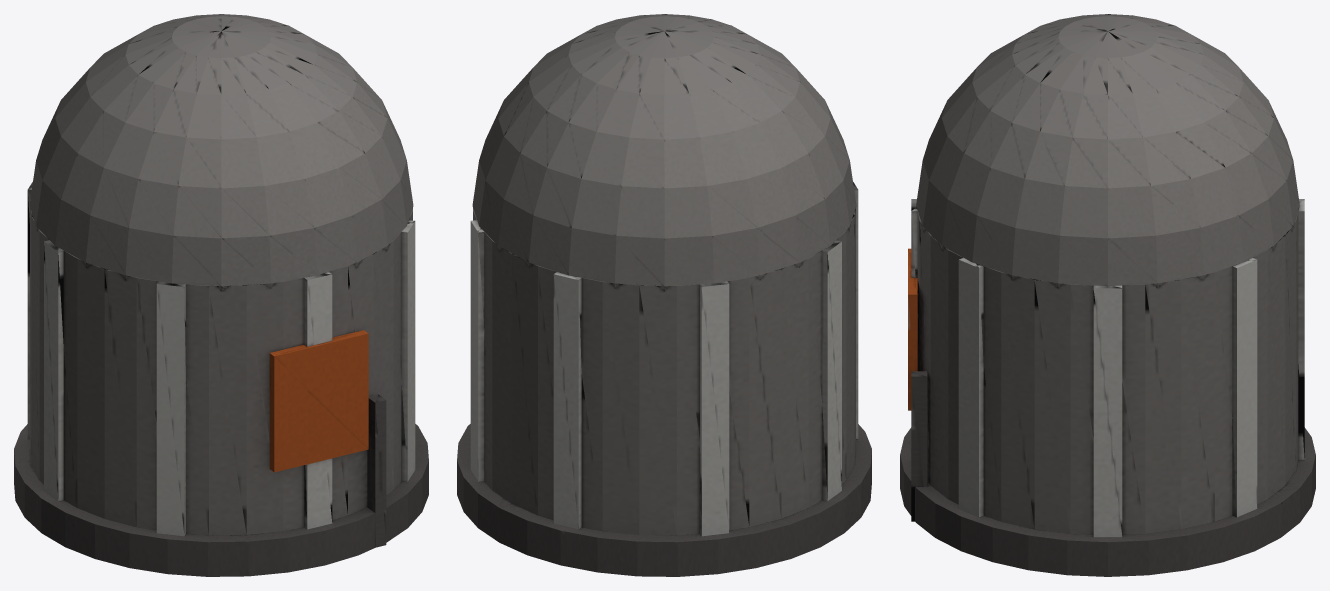
Rendered from storage_tank_script.glb.
3 renders of one model, left to right at view 1: azimuth 30°, elevation 25°; view 2: azimuth 150°, elevation 25°; view 3: azimuth 270°, elevation 25°, orthographic.
Parts seen in each view (by area): view 1: Cube; view 2: Cube; view 3: Cube.
Boxes of the visible parts, x1,y1,x2,y2 form: Cube: [14, 14, 428, 576]; Cube: [457, 14, 871, 576]; Cube: [900, 14, 1315, 576].
Size of the model in its own units: 13 by 15.8 by 13.
Materials: 1 (1 with a texture image).
